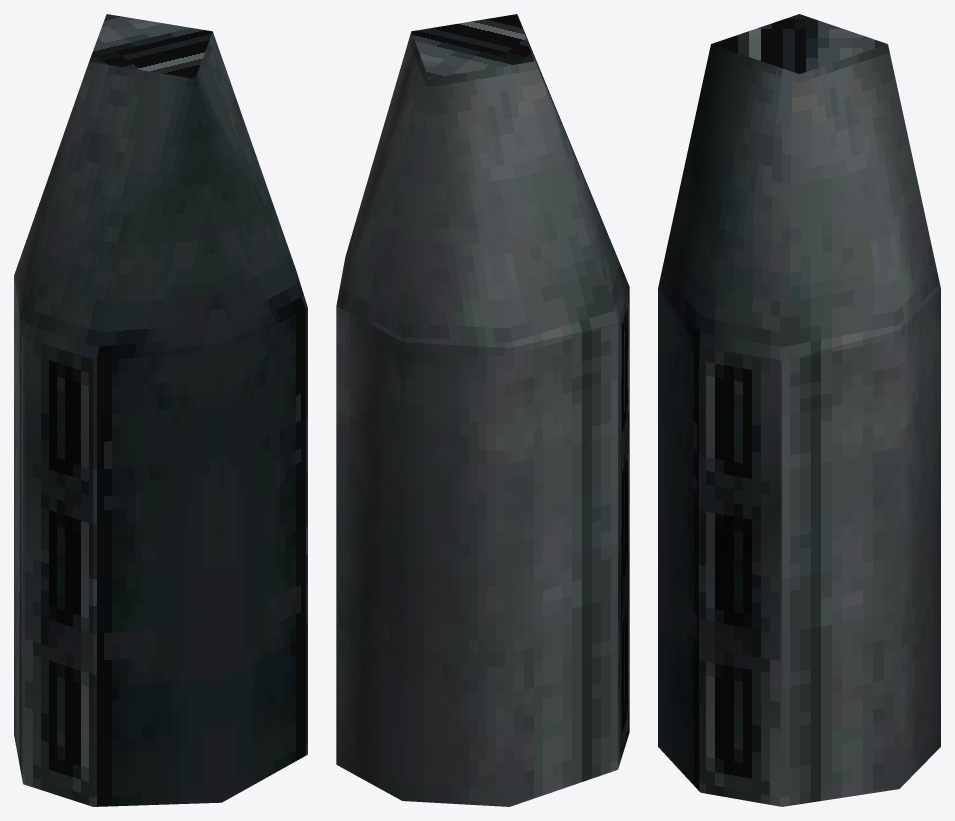
File: wp_muzzle_dxr6_l1.fbx
3 views of the same model, side by side, from view 1: azimuth 30°, elevation 25°; view 2: azimuth 150°, elevation 25°; view 3: azimuth 270°, elevation 25° (orthographic).
Visible parts, largest first — view 1: mesh_node; view 2: mesh_node; view 3: mesh_node.
Boxes of the visible parts, box(x1,y1,x2,y2) form: mesh_node: box(14, 14, 307, 806); mesh_node: box(336, 14, 629, 806); mesh_node: box(658, 14, 940, 806).
Bounding box in the file's own units: 0.0414 × 0.102 × 0.0372.
Materials: 1 (1 with a texture image).
